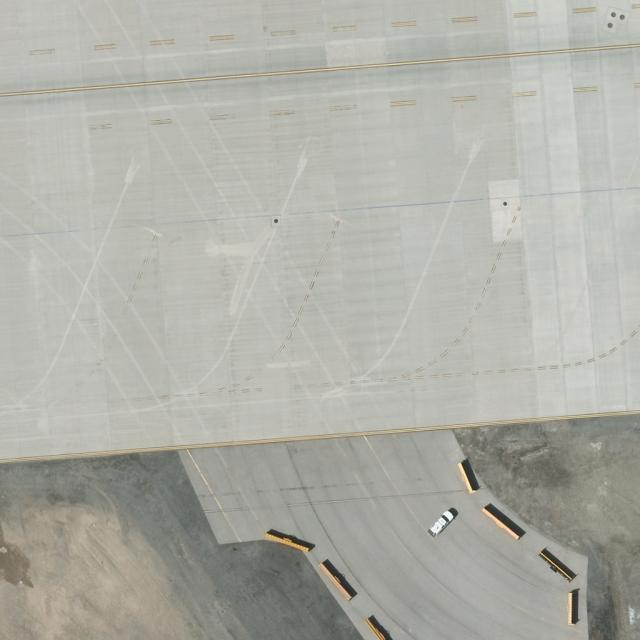vehicle: (428, 510, 456, 536)
